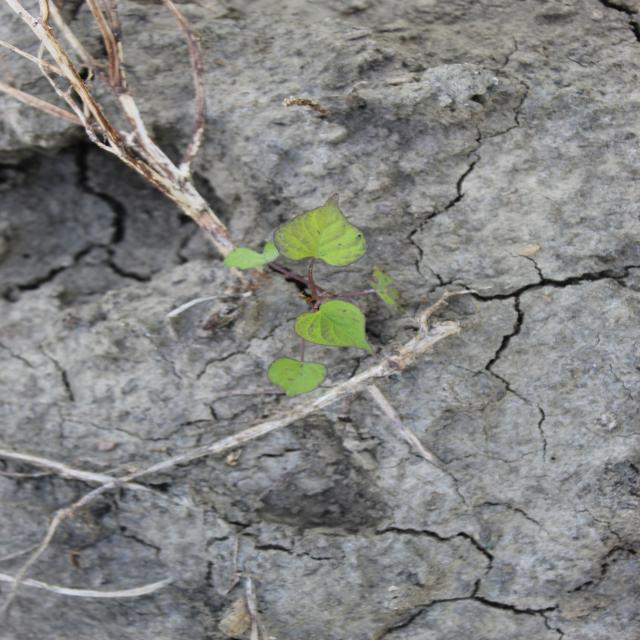MorningGlory: (220, 190, 402, 399)
